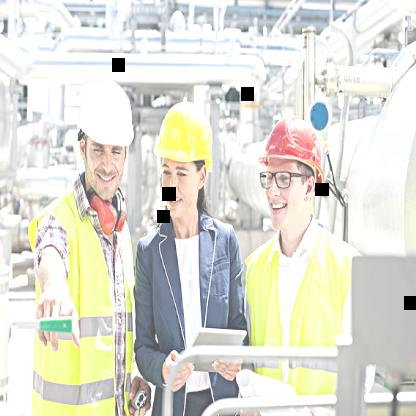helmet: (146, 80, 218, 228), (254, 100, 330, 240), (71, 63, 144, 202), (274, 360, 342, 416)
